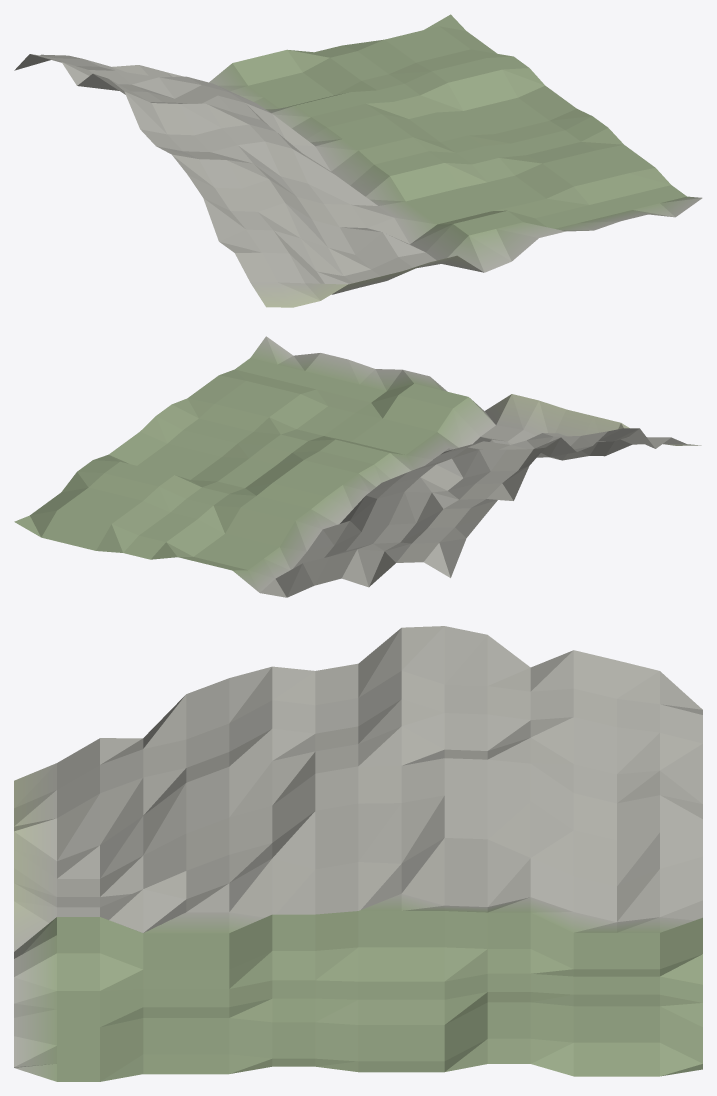
3 views of the same model, one above another, from view 1: azimuth 30°, elevation 25°; view 2: azimuth 150°, elevation 25°; view 3: azimuth 270°, elevation 25° (orthographic). The views are drawn at different scales.
Size of the model in its own units: 32 by 9.26 by 32.
